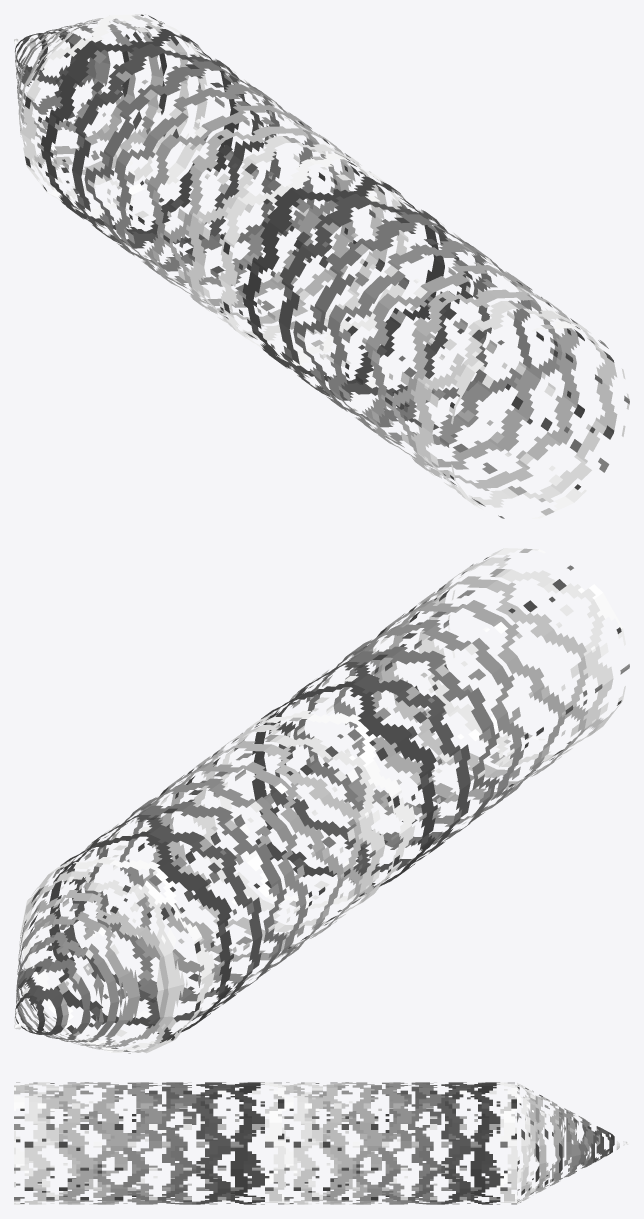
File: companion.glb
3 views of the same model, one above another, from view 1: azimuth 30°, elevation 25°; view 2: azimuth 150°, elevation 25°; view 3: azimuth 270°, elevation 25° (orthographic). The views are drawn at different scales.
Visible parts, largest first — view 1: object_000; view 2: object_000; view 3: object_000.
Part boxes in pixels (x1,y1,x2,y2): object_000: (14, 14, 629, 518); object_000: (14, 548, 629, 1053); object_000: (14, 1082, 629, 1204).
Bounding box in the file's own units: 156 × 156 × 784.
Materials: 1 (1 with a texture image).
